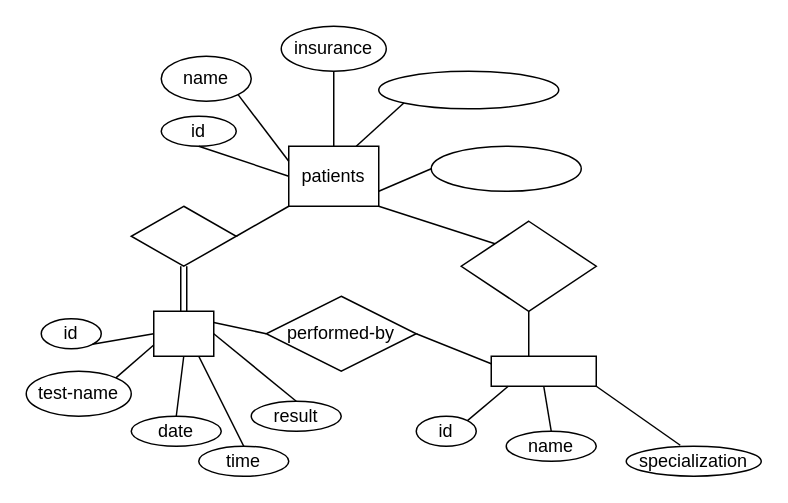
The diagram is 788 pixels wide and 503 high, and some of its shapes have lost their labels. Here are the shapes that lost their labels. From the top down, the box of each, then its label:
(377, 70, 559, 109): admitted date
(430, 145, 581, 191): checked out date
(130, 205, 236, 266): test-log
(460, 220, 596, 311): doctor-patient
(152, 310, 214, 356): test
(490, 355, 596, 386): doctors
